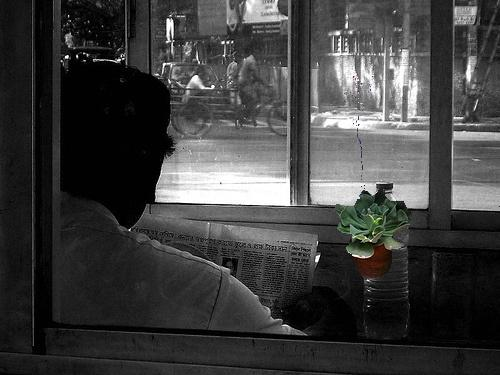tampered: (335, 76, 411, 279)
